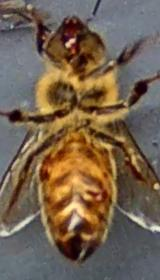varroa_mite: (29, 156, 52, 182), (90, 181, 106, 206)
